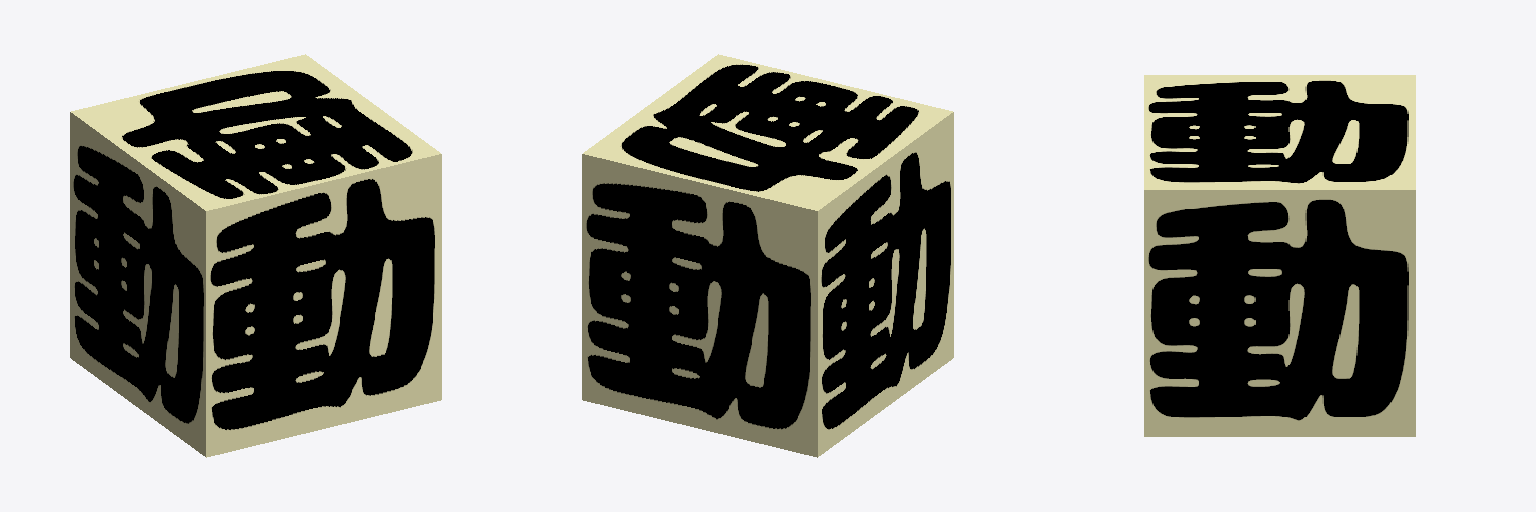
3 views of the same model, side by side, from view 1: azimuth 30°, elevation 25°; view 2: azimuth 150°, elevation 25°; view 3: azimuth 270°, elevation 25° (orthographic).
Parts seen in each view (by area): view 1: Cube; view 2: Cube; view 3: Cube.
Boxes of the visible parts, x1=… form: Cube: x1=70, y1=54, x2=441, y2=457; Cube: x1=582, y1=54, x2=953, y2=457; Cube: x1=1144, y1=75, x2=1415, y2=436.
Bounding box in the file's own units: 1 × 1 × 1.
Materials: 1 (1 with a texture image).